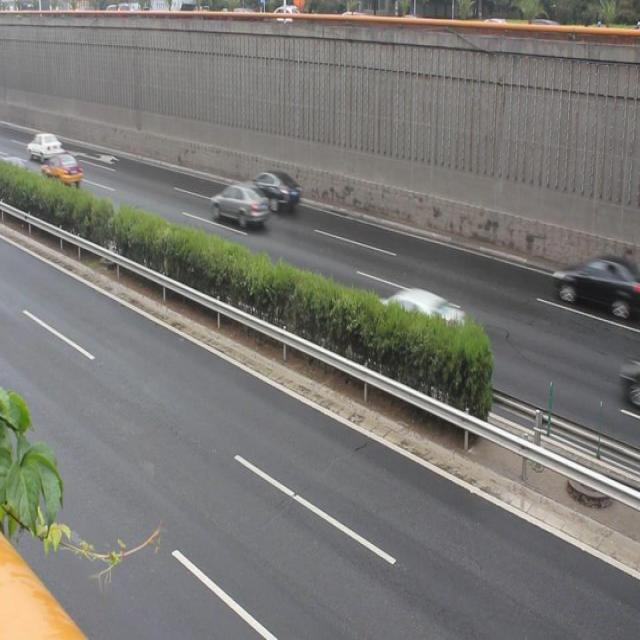car: (376, 279, 467, 353), (551, 248, 626, 318), (210, 180, 266, 231), (246, 162, 300, 213), (44, 152, 82, 190), (28, 126, 61, 161)
